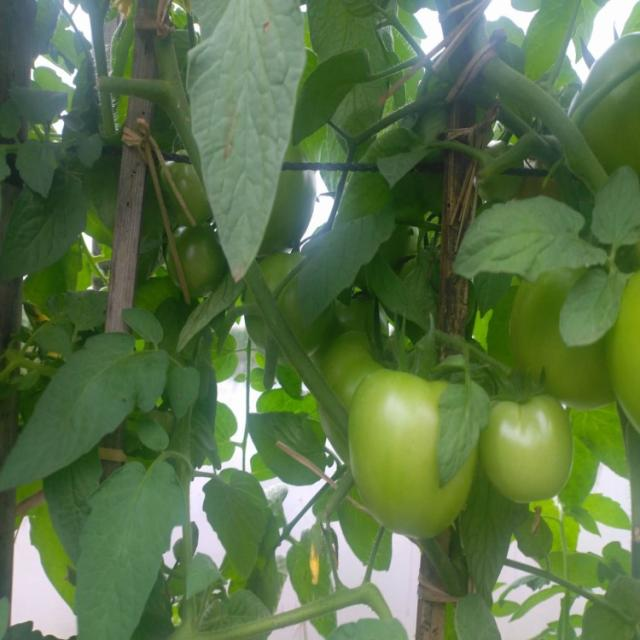tomato: (348, 358, 486, 538), (503, 261, 620, 413), (479, 369, 591, 520), (329, 312, 442, 421), (581, 27, 640, 175), (264, 160, 327, 255), (613, 264, 640, 461), (165, 225, 219, 302), (153, 149, 206, 225)
